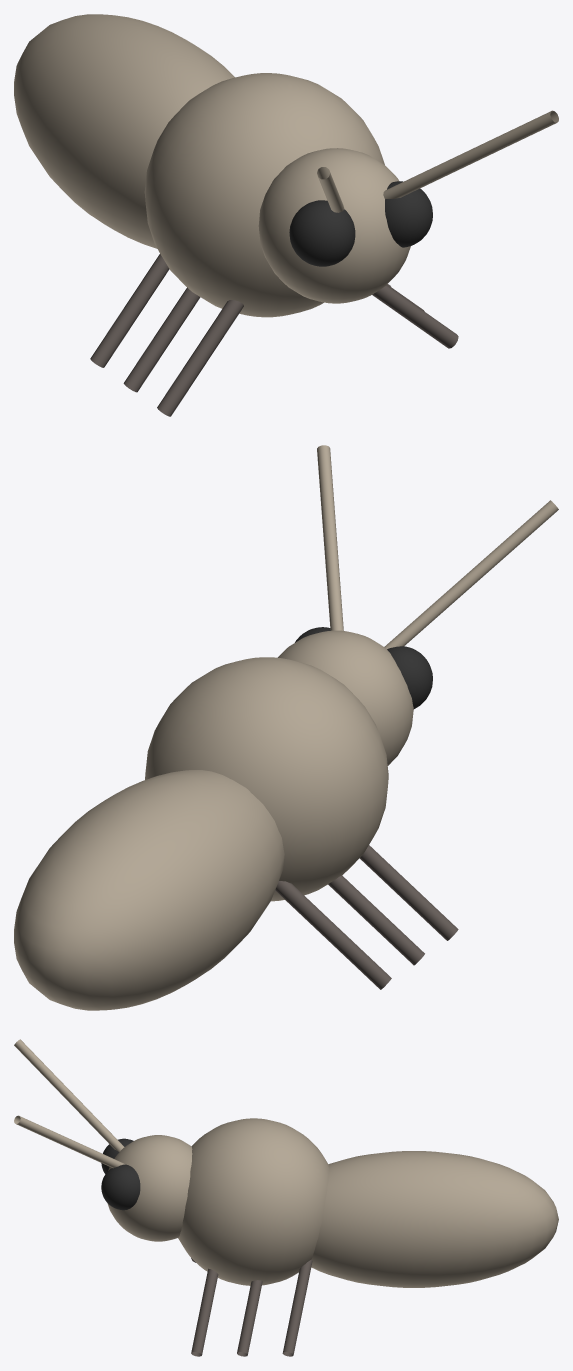
File: moth_body.glb
The picture shows the model from 3 angles, top to bottom: view 1: azimuth 30°, elevation 25°; view 2: azimuth 150°, elevation 25°; view 3: azimuth 270°, elevation 25°; orthographic projection. The views are drawn at different scales.
Visible parts, largest first — view 1: thorax, abdomen, head, eye-0.08, ant0.08, leg0-1, eye0.08, leg2-1, leg1-1, leg01, ant-0.08; view 2: abdomen, thorax, head, ant-0.08, ant0.08, leg2-1, leg0-1, leg1-1, eye-0.08; view 3: abdomen, thorax, head, eye0.08, ant-0.08, leg21, ant0.08, leg01, leg11.
Part boxes in pixels (x1,y1,x2,y2): thorax: [144, 73, 384, 317]; abdomen: [14, 14, 234, 248]; head: [258, 148, 410, 303]; eye-0.08: [289, 200, 355, 266]; ant0.08: [383, 110, 558, 199]; leg0-1: [157, 300, 243, 416]; eye0.08: [385, 181, 432, 247]; leg2-1: [90, 254, 169, 367]; leg1-1: [123, 287, 200, 392]; leg01: [372, 285, 458, 348]; ant-0.08: [317, 167, 344, 212]; abdomen: [14, 770, 284, 1010]; thorax: [145, 657, 388, 901]; head: [278, 630, 413, 765]; ant-0.08: [384, 500, 558, 648]; ant0.08: [317, 445, 343, 630]; leg2-1: [275, 881, 391, 989]; leg0-1: [359, 845, 458, 940]; leg1-1: [328, 875, 424, 965]; eye-0.08: [387, 646, 432, 709]; abdomen: [311, 1151, 558, 1287]; thorax: [178, 1118, 328, 1285]; head: [107, 1135, 192, 1241]; eye0.08: [101, 1164, 140, 1210]; ant-0.08: [14, 1039, 124, 1152]; leg21: [282, 1259, 312, 1356]; ant0.08: [14, 1115, 124, 1168]; leg01: [191, 1268, 218, 1356]; leg11: [237, 1280, 262, 1356].
Size of the model in its own units: 0.6205 by 0.6702 by 1.43.
